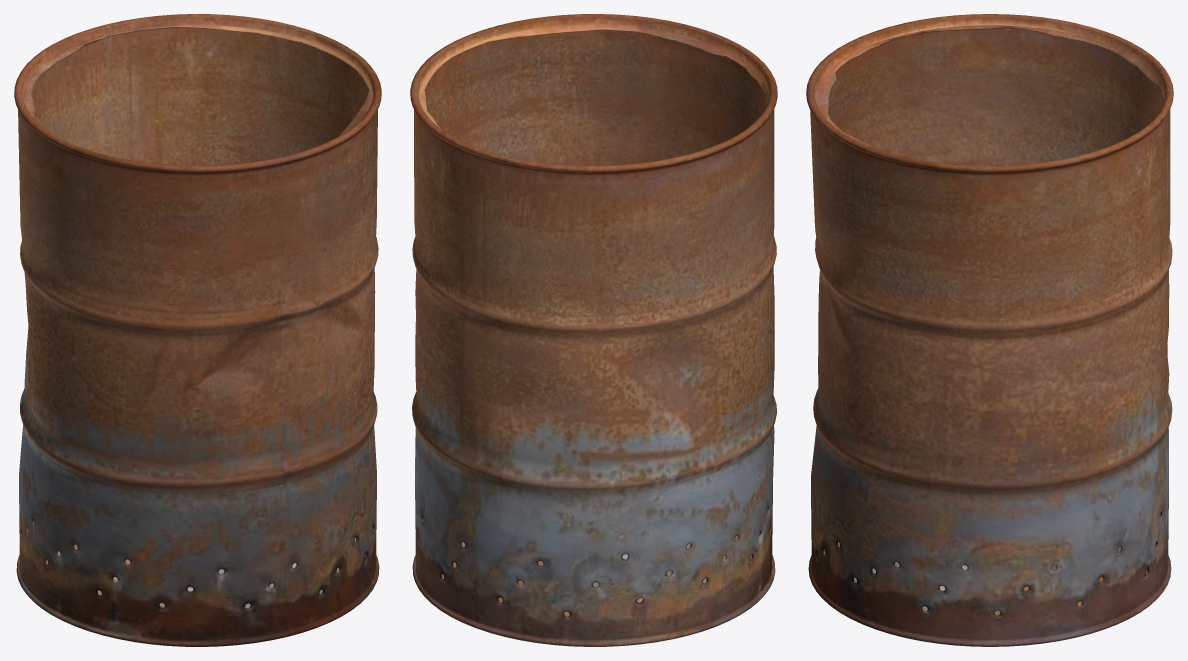
Rendered from barrel_stove.glb.
3 renders of one model, left to right at view 1: azimuth 30°, elevation 25°; view 2: azimuth 150°, elevation 25°; view 3: azimuth 270°, elevation 25°, orthographic.
Visible parts, largest first — view 1: barrel_stove; view 2: barrel_stove; view 3: barrel_stove.
Part boxes in pixels (bbox=[...]): barrel_stove: bbox=[14, 14, 381, 646]; barrel_stove: bbox=[410, 14, 777, 646]; barrel_stove: bbox=[806, 14, 1173, 646].
Size of the model in its own units: 0.5926 by 0.8556 by 0.5926.
1 material, 1 textured.
